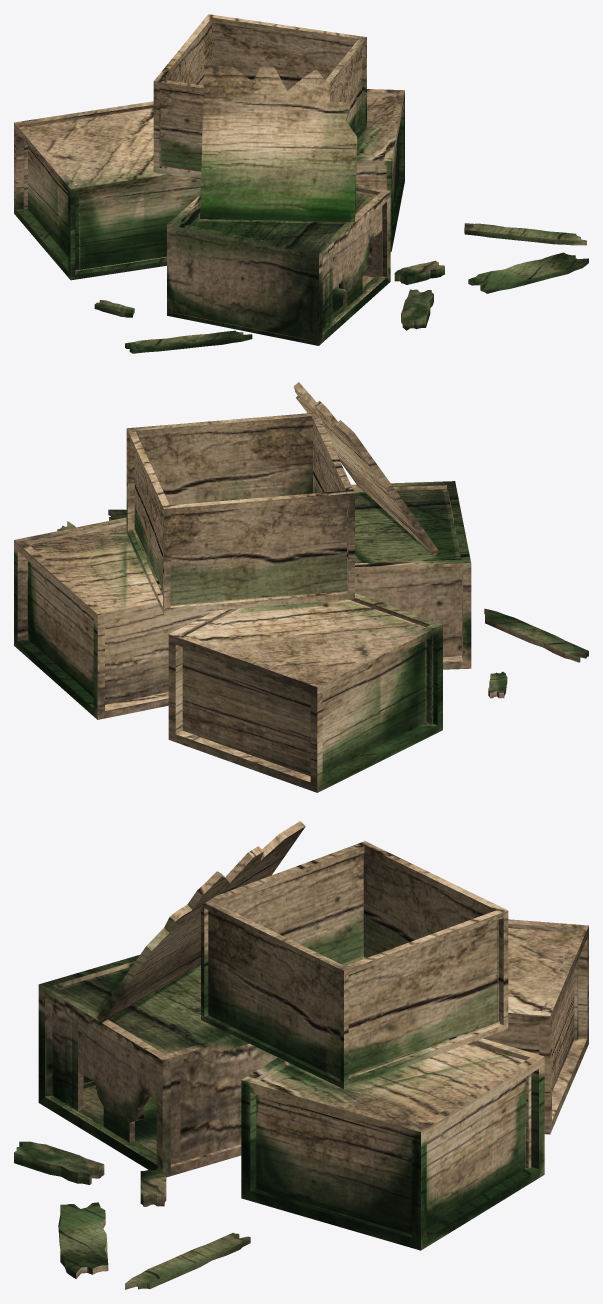
Rendered from wooden_box.fbx.
3 views of the same model, one above another, from view 1: azimuth 30°, elevation 25°; view 2: azimuth 150°, elevation 25°; view 3: azimuth 270°, elevation 25° (orthographic). The views are drawn at different scales.
Visible parts, largest first — view 1: Куб.002; view 2: Куб.002; view 3: Куб.002.
Boxes of the visible parts, x1=… form: Куб.002: x1=14, y1=14, x2=588, y2=353; Куб.002: x1=14, y1=382, x2=588, y2=792; Куб.002: x1=14, y1=821, x2=588, y2=1289.
Bounding box in the file's own units: 623 × 277 × 528.
